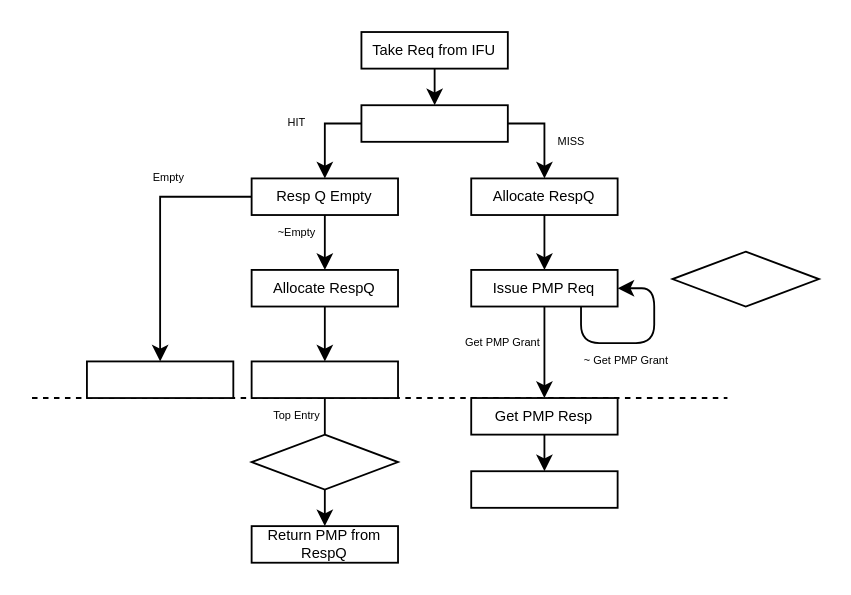
Image size: 851x595. Some labels were removed from this diagram. The shapes that lost their labels are listed below. From the top down, each one's centre as x and y in pixels, then its label:
(434,122): Hit in ITLB
(159,379): Return PMP from ITLB
(324,379): Waiting Resp Q Popped
(543,488): Return PMP from PMP Hardware
